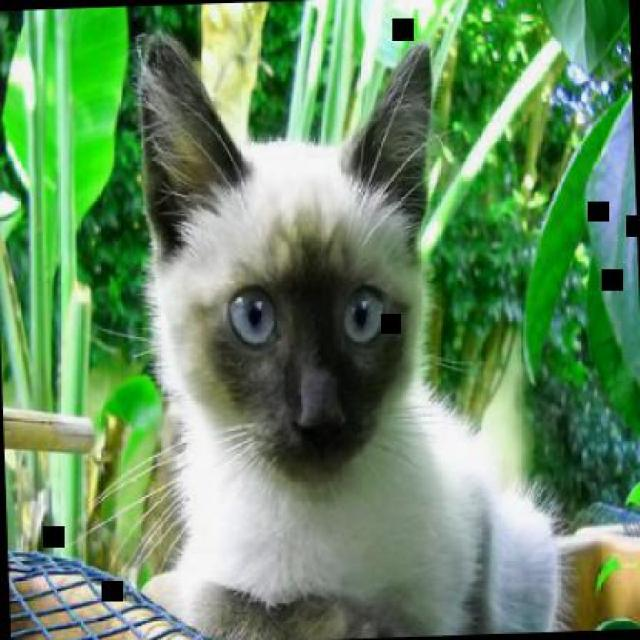cat: (122, 20, 568, 638)
